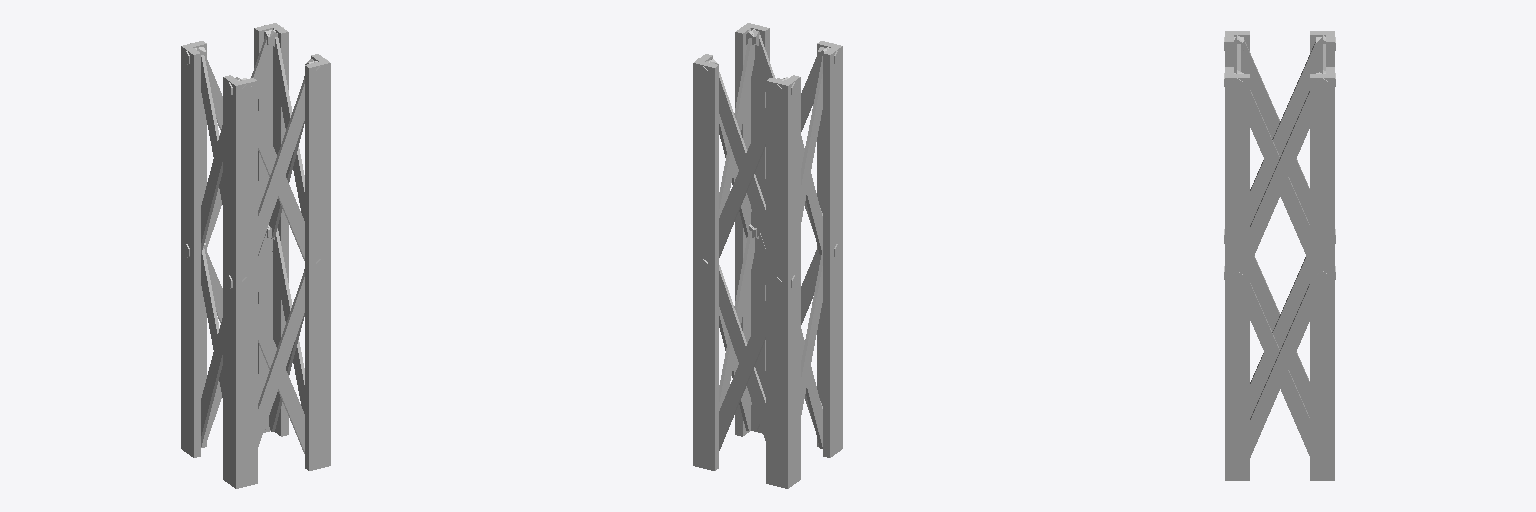
The model's file is lms_post_lattice_mid.obj.
The picture shows the model from 3 angles: view 1: azimuth 30°, elevation 25°; view 2: azimuth 150°, elevation 25°; view 3: azimuth 270°, elevation 25°; orthographic projection.
Visible parts, largest first — view 1: lattice_post_Cube.007; view 2: lattice_post_Cube.007; view 3: lattice_post_Cube.007.
Part boxes in pixels (x1,y1,x2,y2): lattice_post_Cube.007: (181,23,330,488); lattice_post_Cube.007: (693,23,842,488); lattice_post_Cube.007: (1224,31,1335,480).
Bounding box in the file's own units: 0.2528 × 1 × 0.2528.